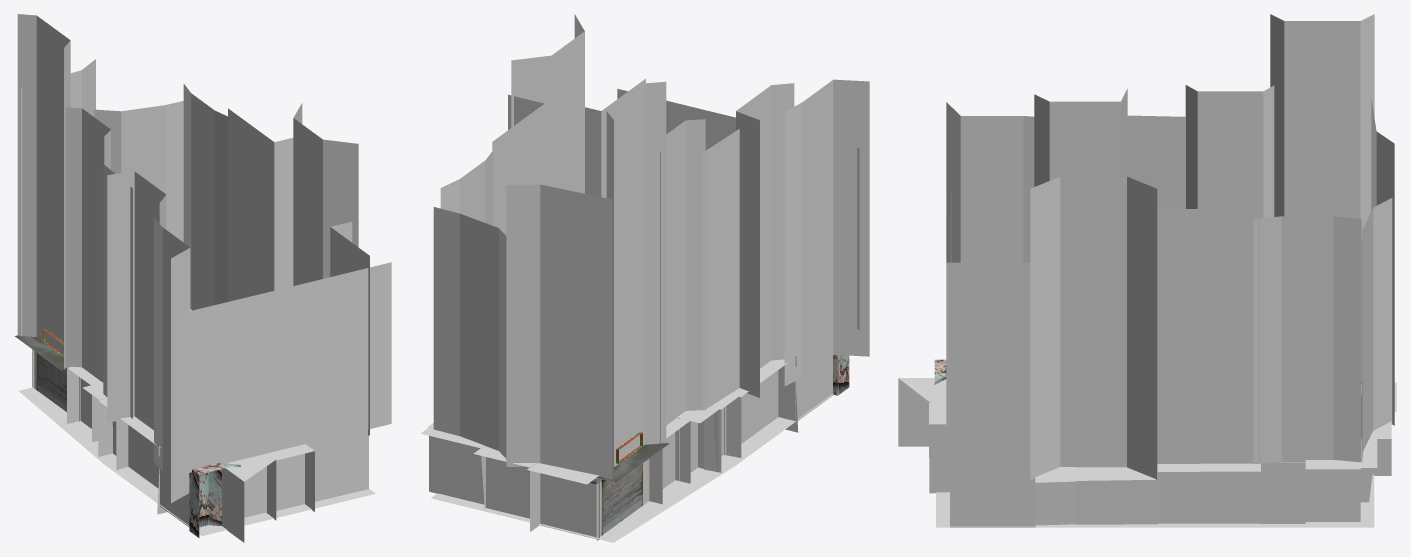
Rendered from kowloon.fbx.
3 renders of one model, left to right at view 1: azimuth 30°, elevation 25°; view 2: azimuth 150°, elevation 25°; view 3: azimuth 270°, elevation 25°, orthographic. The views are drawn at different scales.
Parts seen in each view (by area): view 1: biru6, biru1, biru4, biru9, biru2, biru10, biru8, biru5, biru11, chinadoor5, floor, chinadoor7 (+11 smaller); view 2: biru12, biru5, biru1, biru11, biru4, biru2, biru3, biru8, biru9, floor, chinadoor18, chinadoor16 (+11 smaller); view 3: biru8, biru10, biru9, biru1, biru7, biru5, biru2, biru4, biru11, biru3, chinadoor11, chinadoor13 (+12 smaller).
Part boxes in pixels (x1,y1,x2,y2): biru6: (177,262,391,475); biru1: (17,14,70,369); biru4: (107,171,166,430); biru9: (228,108,293,301); biru2: (66,107,110,382); biru10: (183,84,228,310); biru8: (293,103,358,285); biru5: (154,218,190,503); biru11: (94,101,183,242); chinadoor5: (222,453,276,542); floor: (19,387,375,535); chinadoor7: (304,429,368,504); biru12: (506,184,612,481); biru5: (784,79,869,386); biru1: (606,81,666,481); biru11: (433,207,506,462); biru4: (736,83,794,397); biru2: (660,119,705,443); biru3: (703,129,739,410); biru8: (511,14,584,193); biru9: (492,94,544,235); floor: (431,393,833,542); chinadoor18: (527,463,599,539); chinadoor16: (421,427,485,508); biru8: (1030,176,1157,479); biru10: (1253,216,1361,464); biru9: (1157,209,1259,463); biru1: (1270,14,1374,381); biru7: (946,262,1030,465); biru5: (946,102,1034,262); biru2: (1185,85,1274,218); biru4: (1034,88,1127,186); biru11: (1362,198,1392,462); biru3: (1122,115,1185,208); chinadoor11: (1075,467,1157,524); chinadoor13: (1200,463,1260,523).
Bounding box in the file's own units: 2364 × 3772 × 3919.
